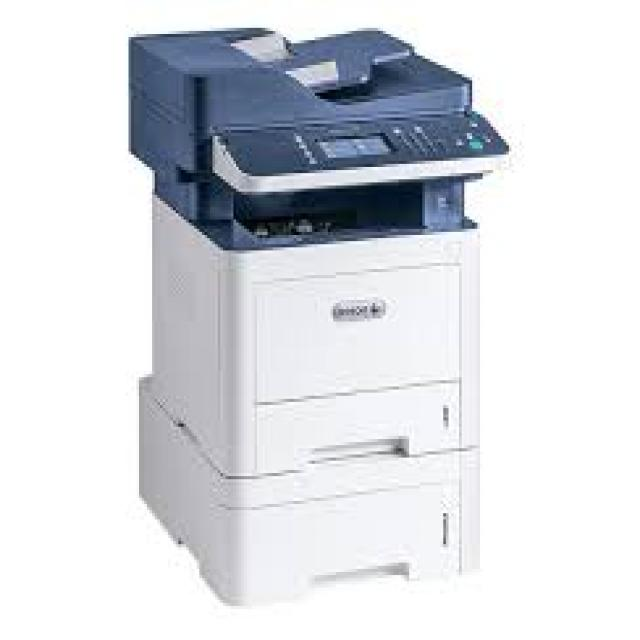printer: (111, 13, 525, 632)
